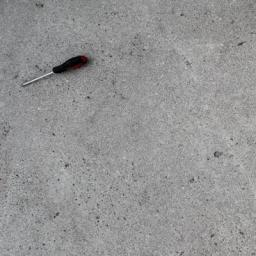FOD: (19, 54, 93, 90)
